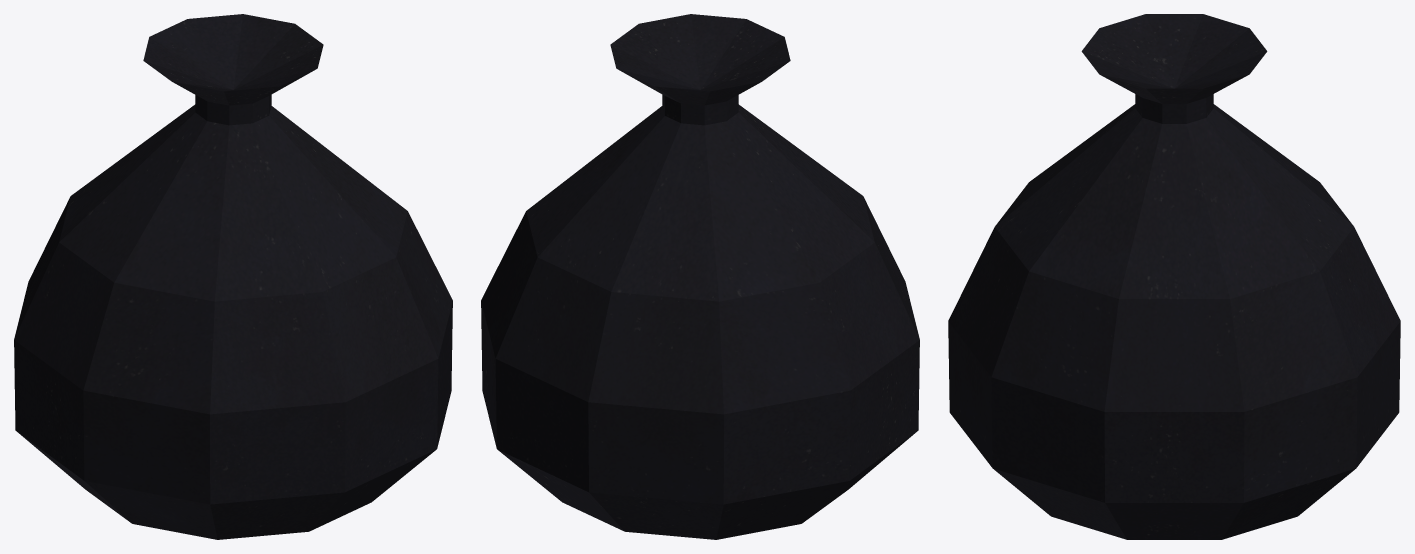
File: TrashBag1.fbx
3 renders of one model, left to right at view 1: azimuth 30°, elevation 25°; view 2: azimuth 150°, elevation 25°; view 3: azimuth 270°, elevation 25°, orthographic.
Parts seen in each view (by area): view 1: Trashbag1; view 2: Trashbag1; view 3: Trashbag1.
Part boxes in pixels (x1,y1,x2,y2): Trashbag1: (14,14,452,539); Trashbag1: (481,14,919,539); Trashbag1: (948,14,1400,539).
Bounding box in the file's own units: 31.62 × 33.25 × 34.67.
